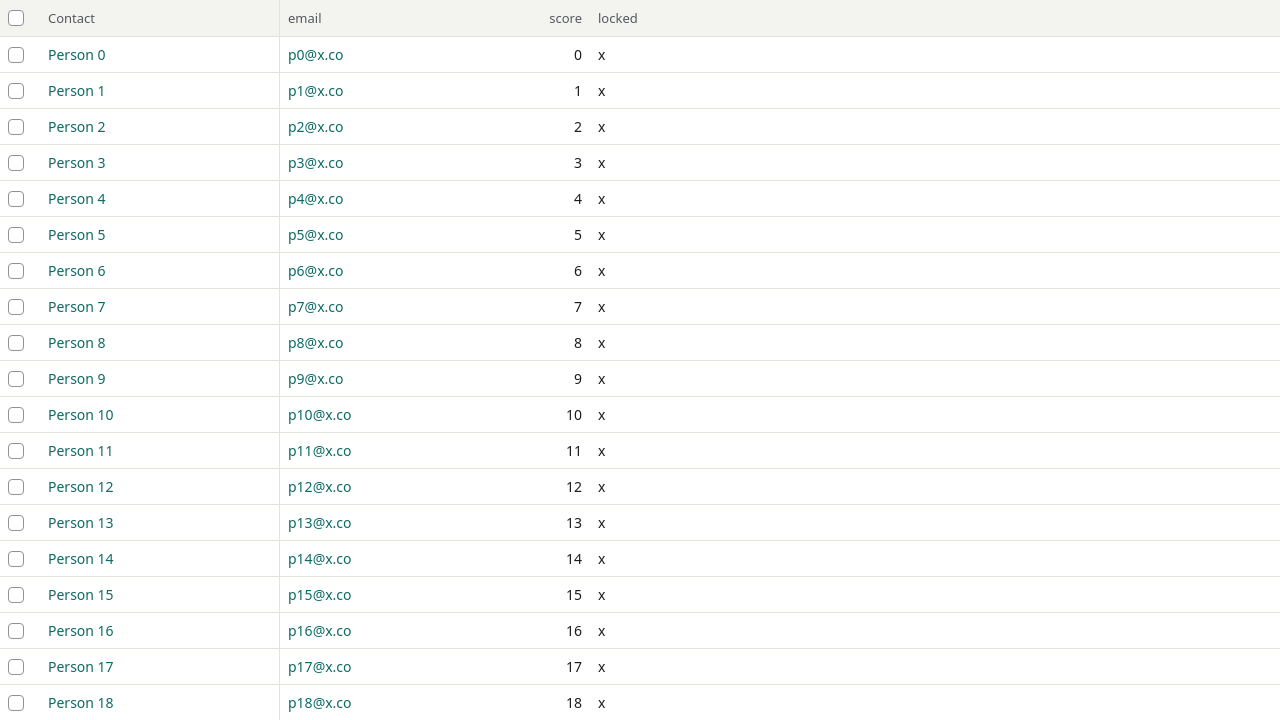
Scenario: records table › shows the server's message when an edit is refused
Double-click the cell "0".
double_click(578, 54)  # box left=574, top=44, right=582, bottom=64
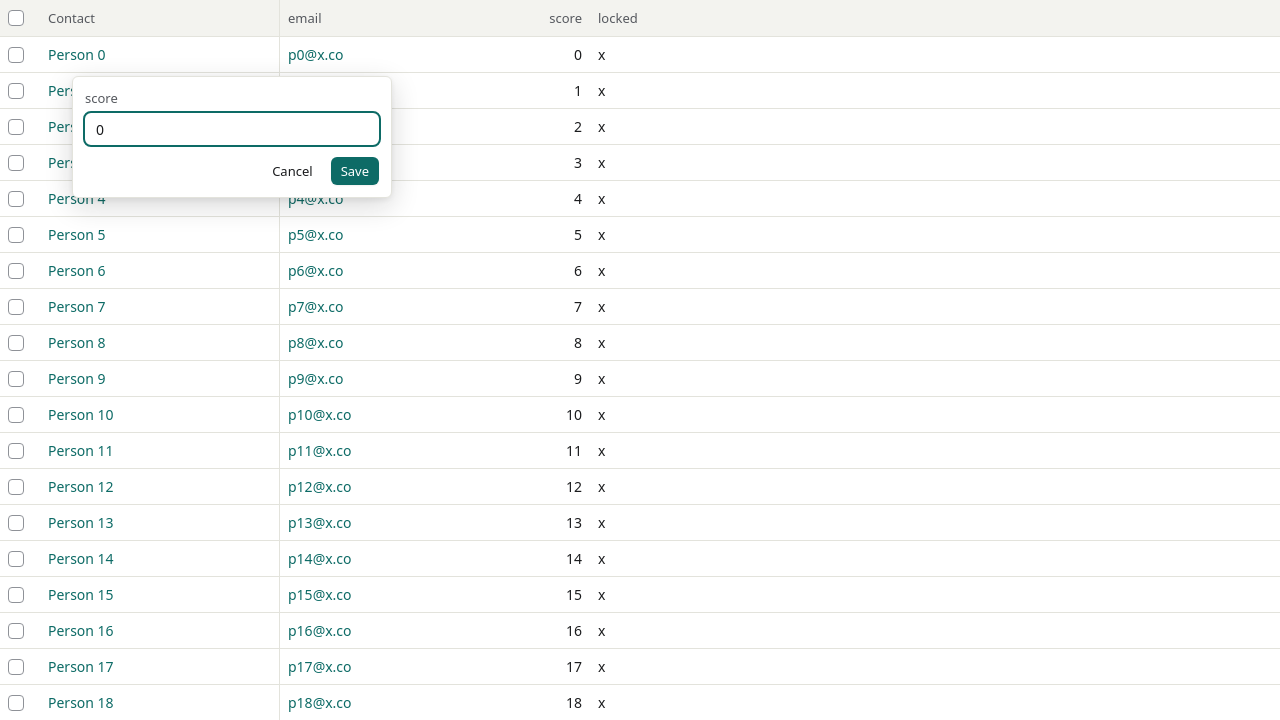
Type "99" into the field showing "0".
click(232, 129); type("99")  # box left=85, top=113, right=379, bottom=145
Then press Enter
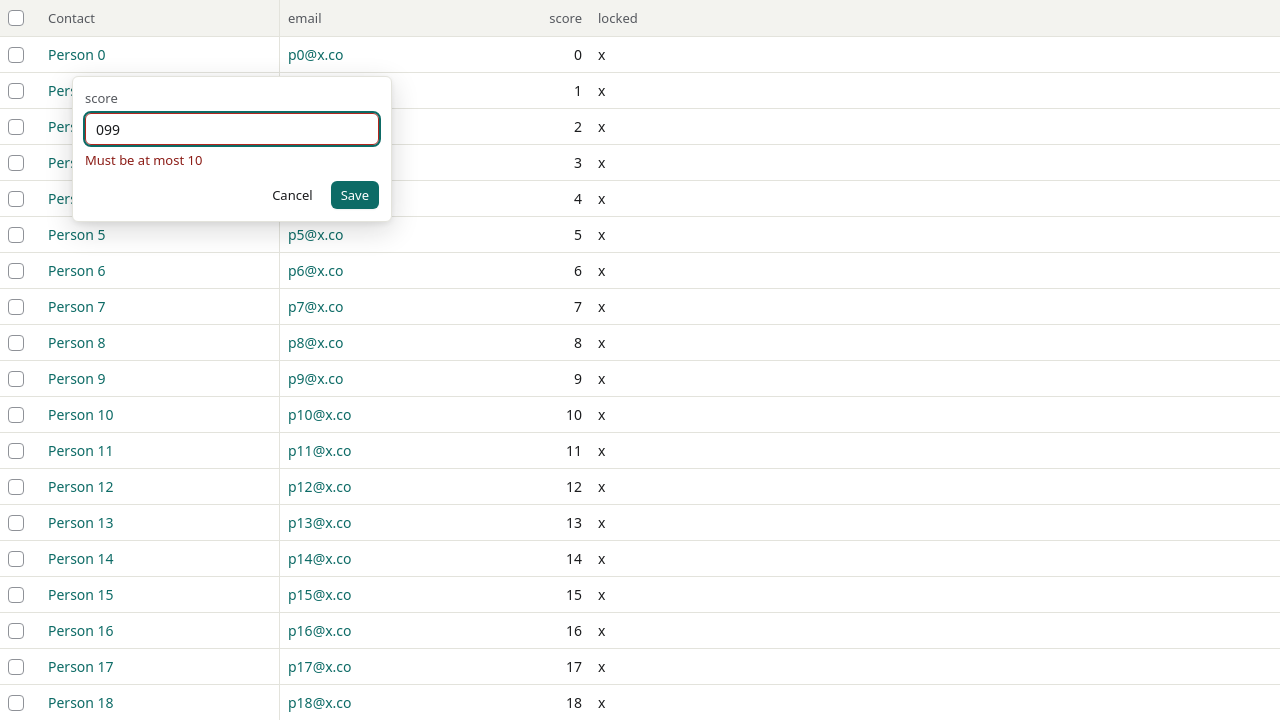
Expected: the message reads "Must be at most 10", left=85, top=151, right=202, bottom=169
